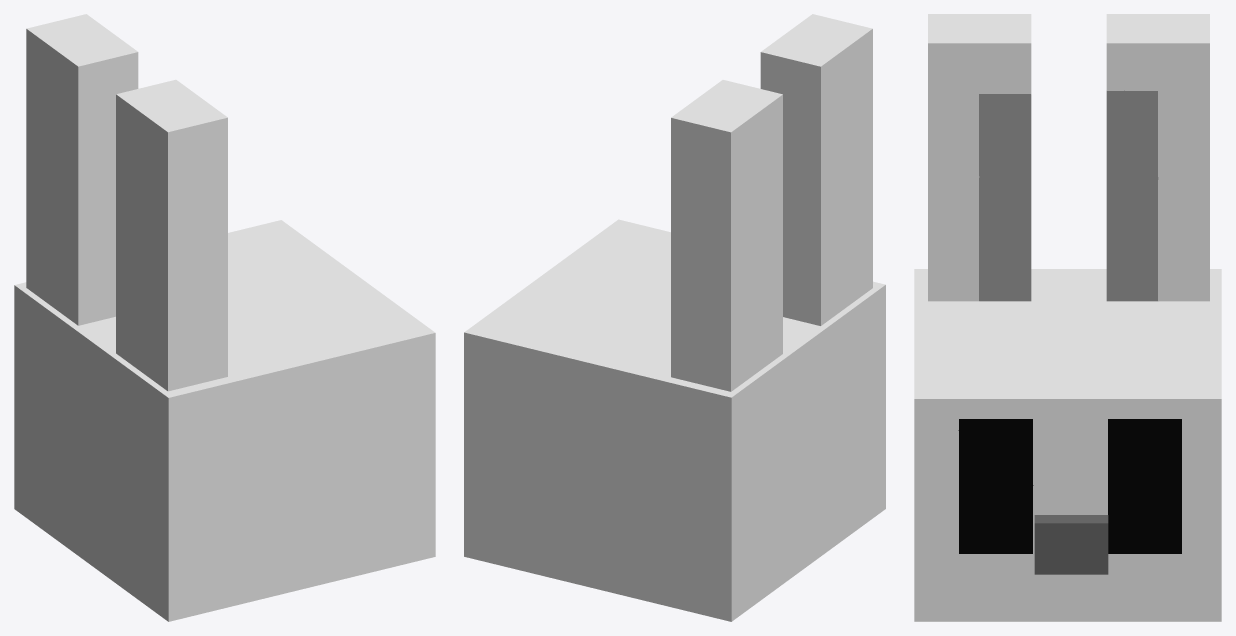
Rendered from rabbitHead.fbx.
The picture shows the model from 3 angles, left to right: view 1: azimuth 30°, elevation 25°; view 2: azimuth 150°, elevation 25°; view 3: azimuth 270°, elevation 25°; orthographic projection.
Visible parts, largest first — view 1: 立方体; view 2: 立方体; view 3: 立方体.
Part boxes in pixels (x1,y1,x2,y2): 立方体: [14, 14, 435, 621]; 立方体: [464, 14, 885, 621]; 立方体: [914, 14, 1221, 621].
Size of the model in its own units: 65.99 by 107 by 62.07.
